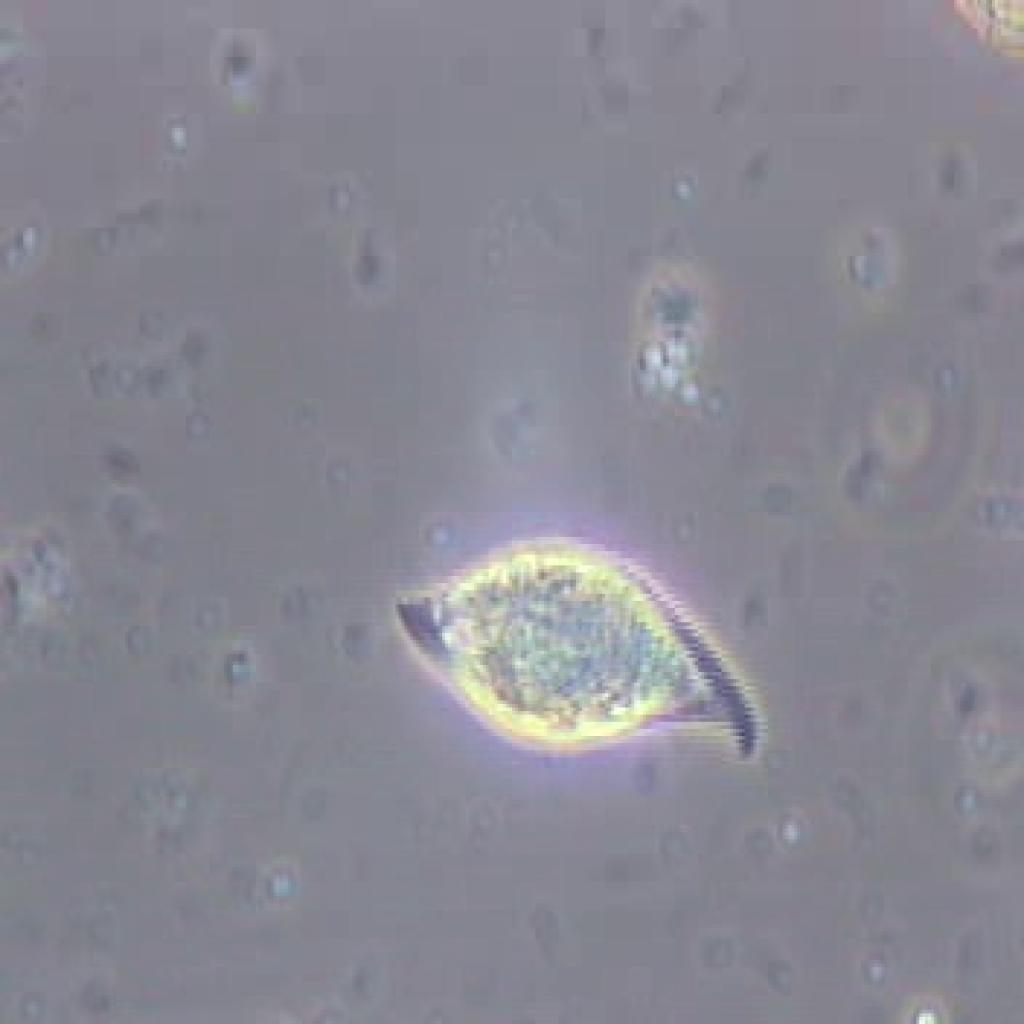Pristina: (307, 482, 761, 805)
